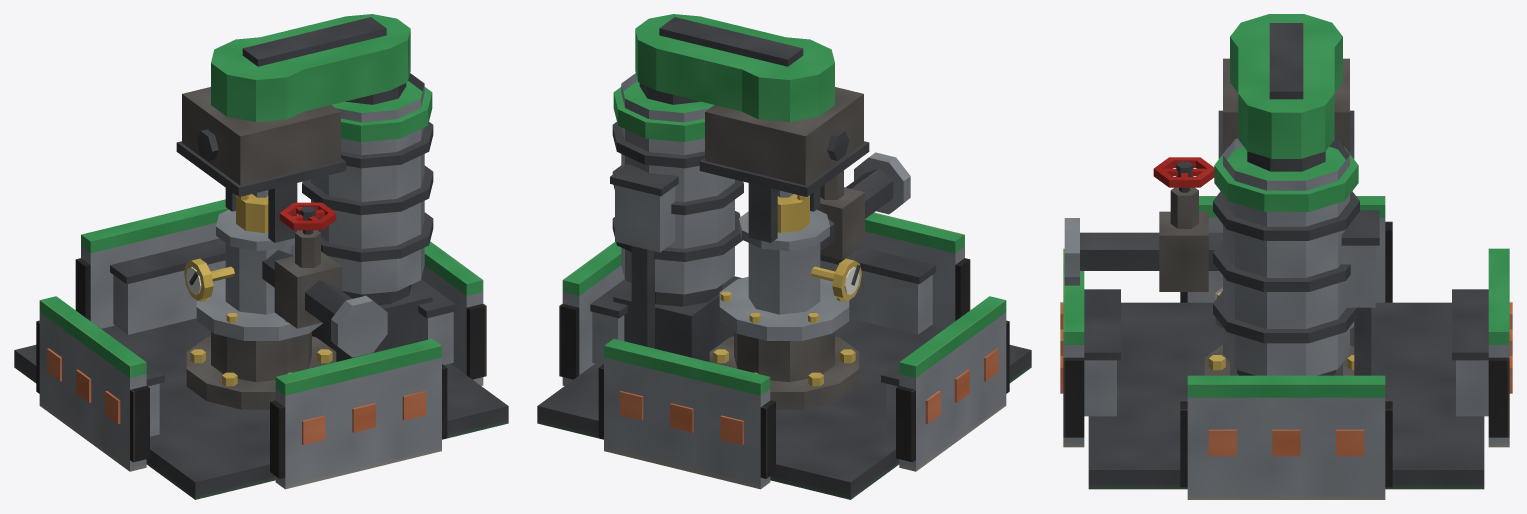
Rendered from oilpump50v.obj.
3 views of the same model, side by side, from view 1: azimuth 30°, elevation 25°; view 2: azimuth 150°, elevation 25°; view 3: azimuth 270°, elevation 25° (orthographic). The views are drawn at different scales.
Parts seen in each view (by area): view 1: main; view 2: main; view 3: main.
Boxes of the visible parts, x1,y1,x2,y2 form: main: [14, 14, 508, 499]; main: [537, 14, 1031, 499]; main: [1060, 14, 1512, 499].
Size of the model in its own units: 1 by 0.9187 by 1.
Materials: 1 (1 with a texture image).
